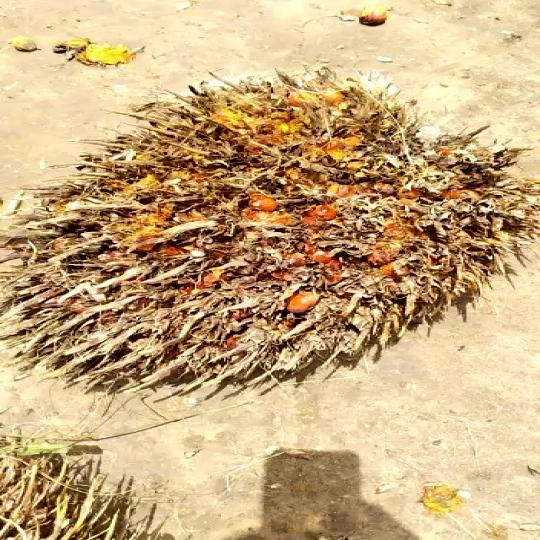terlalu masak: (0, 56, 540, 398)
